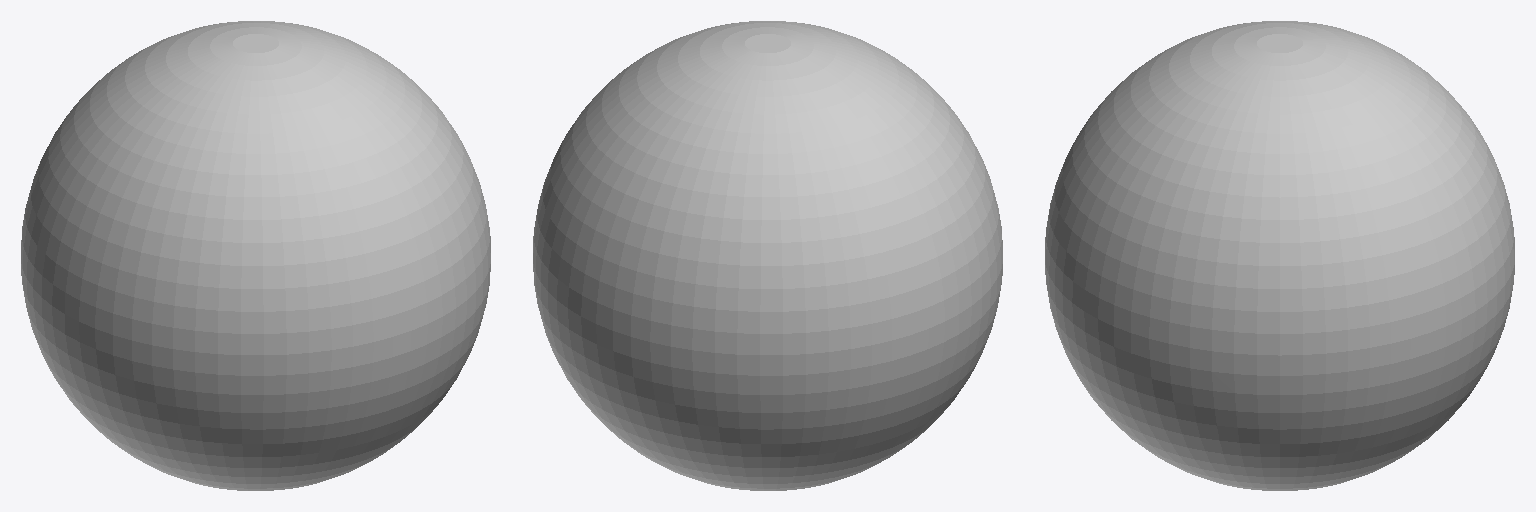
Rendered from earthd.obj.
The picture shows the model from 3 angles: view 1: azimuth 30°, elevation 25°; view 2: azimuth 150°, elevation 25°; view 3: azimuth 270°, elevation 25°; orthographic projection.
Parts seen in each view (by area): view 1: Sphere; view 2: Sphere; view 3: Sphere.
Boxes of the visible parts, x1,y1,x2,y2 form: Sphere: [21, 21, 490, 490]; Sphere: [533, 21, 1002, 490]; Sphere: [1045, 21, 1514, 490].
Bounding box in the file's own units: 2 × 1.99 × 2.